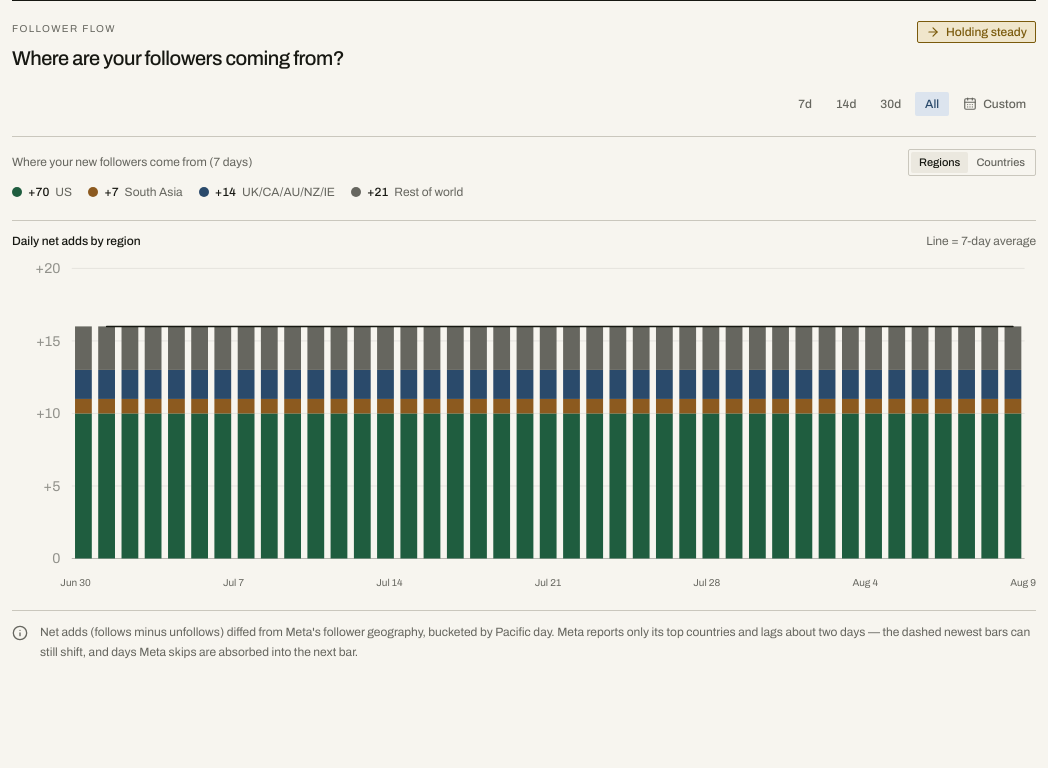
Follower flow country mode › surfaces South Africa as its own band instead of Rest of world
The width and height of the screenshot is (1048, 768).
Click the button "countries" at x=1001, y=162, box [968, 152, 1033, 172]
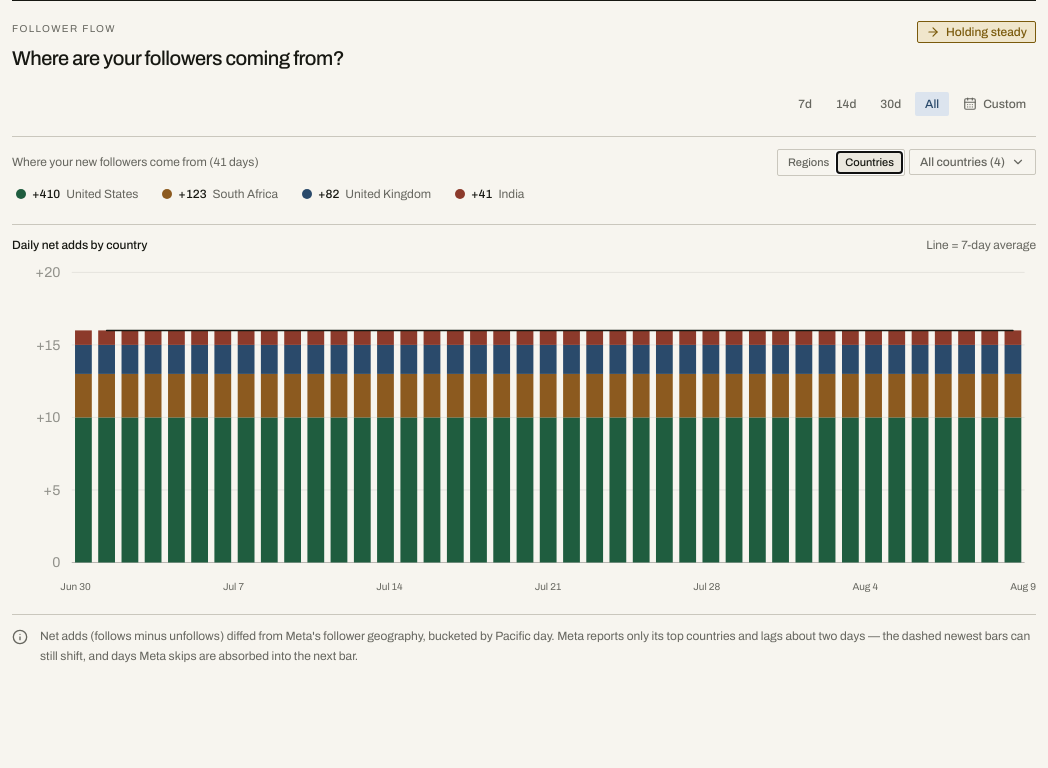
expect the text "South Africa" is shown: met, box [212, 186, 278, 202]
expect the text "Rest of world" is gone: met
